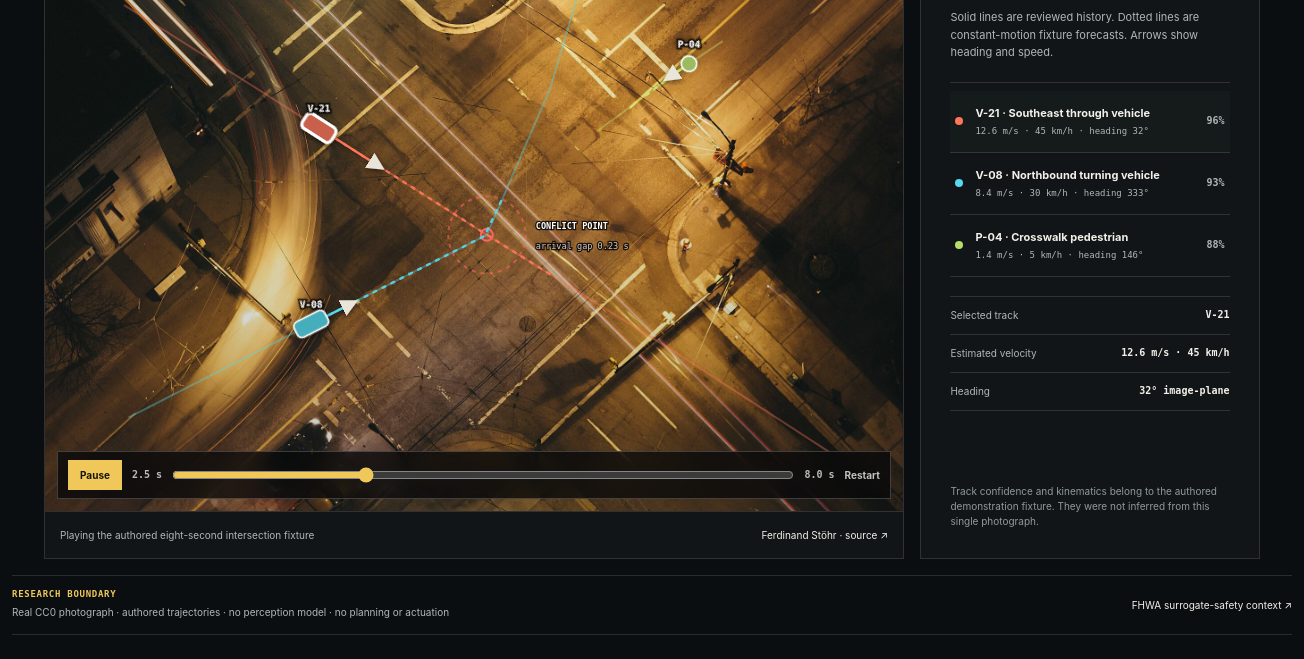
Test: Motion Forecasting controls › plays, pauses, scrubs, and restarts the fixture clock
(page scrolled)
Click the button with aria-label "Pause trajectory fixture" at (95, 475), box top-left (68, 460), bottom-right (122, 490)
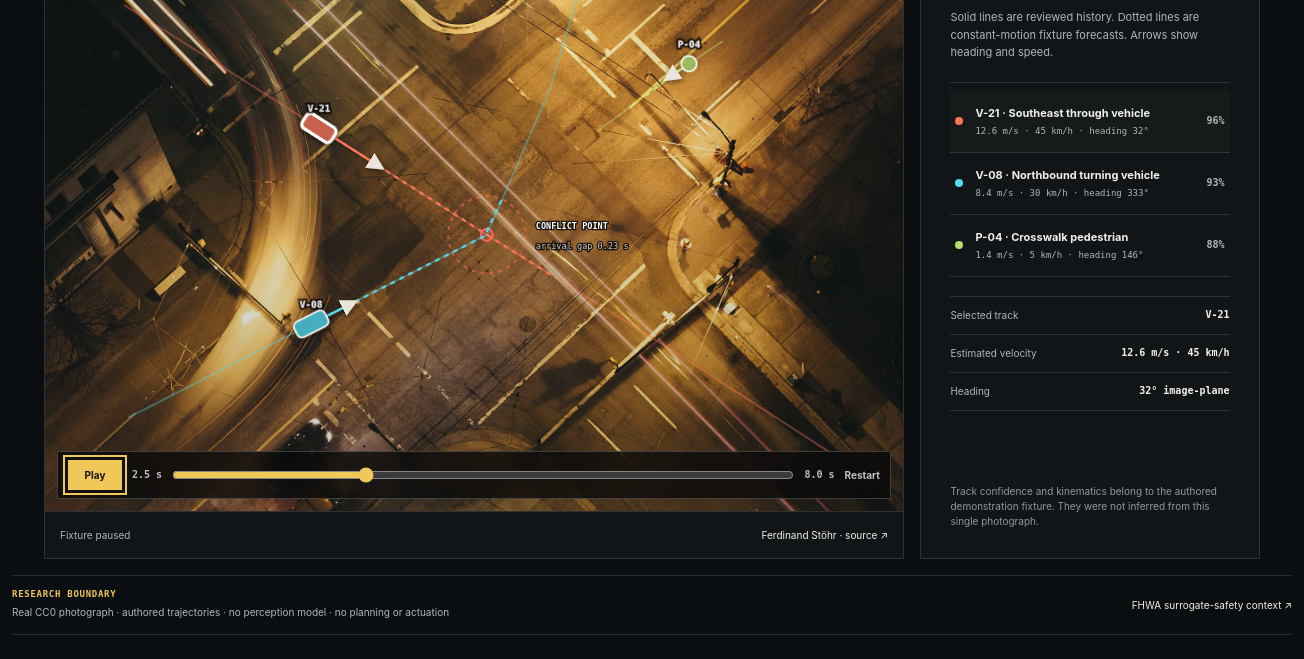
Result: the button with aria-label "Play trajectory fixture" is shown at top-left (68, 460), bottom-right (122, 490)
Result: the message reads "Fixture paused" at top-left (60, 529), bottom-right (130, 541)
Set the slider named "Fixture time" to "5.5" at (597, 475), box top-left (172, 467), bottom-right (794, 483)
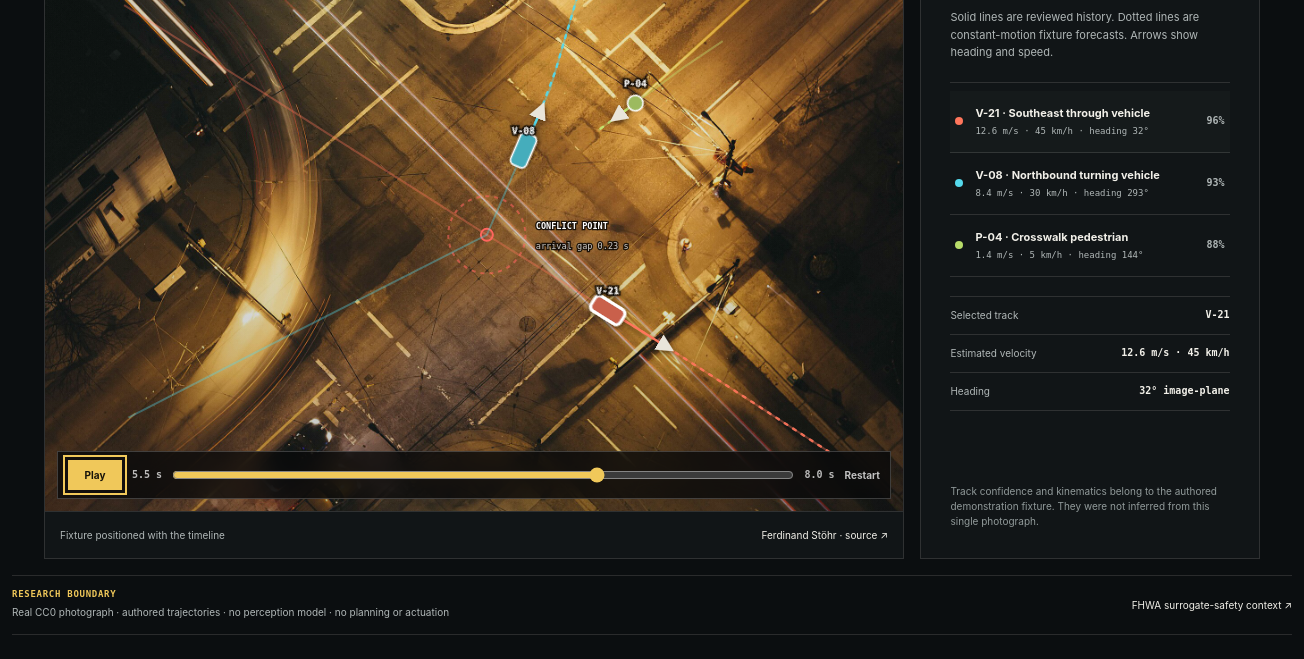
Result: the message reads "Fixture positioned with the timeline" at top-left (60, 529), bottom-right (225, 541)
Click the button "Restart" at (862, 475), box top-left (844, 460), bottom-right (880, 490)
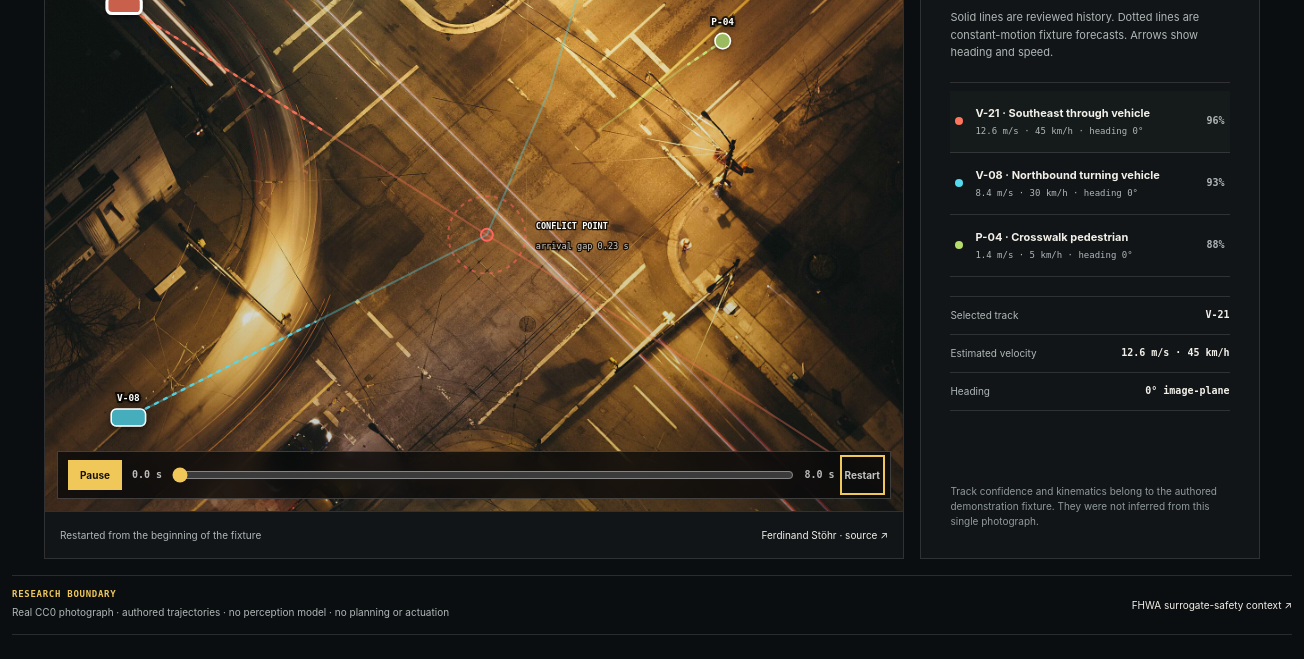
Result: the slider named "Fixture time" holds "0" at top-left (172, 467), bottom-right (794, 483)
Result: the button with aria-label "Pause trajectory fixture" is shown at top-left (68, 460), bottom-right (122, 490)
Result: the message shows "Restarted from the beginning" at top-left (60, 529), bottom-right (261, 541)
